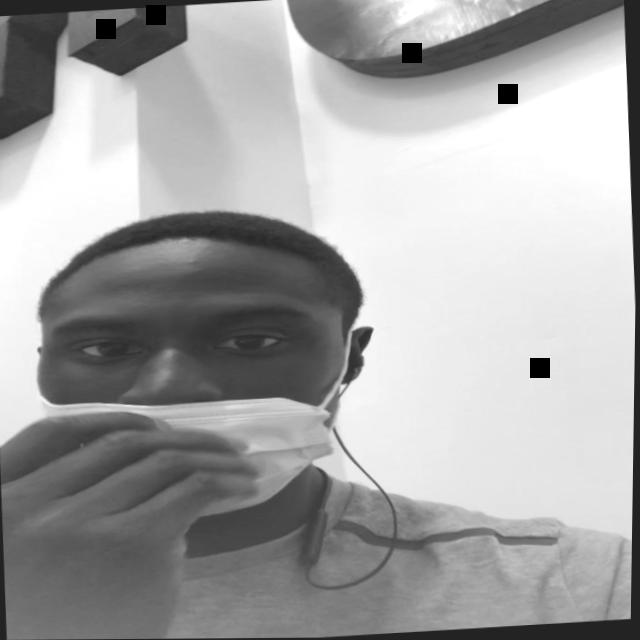Mask: (28, 263, 368, 526)
